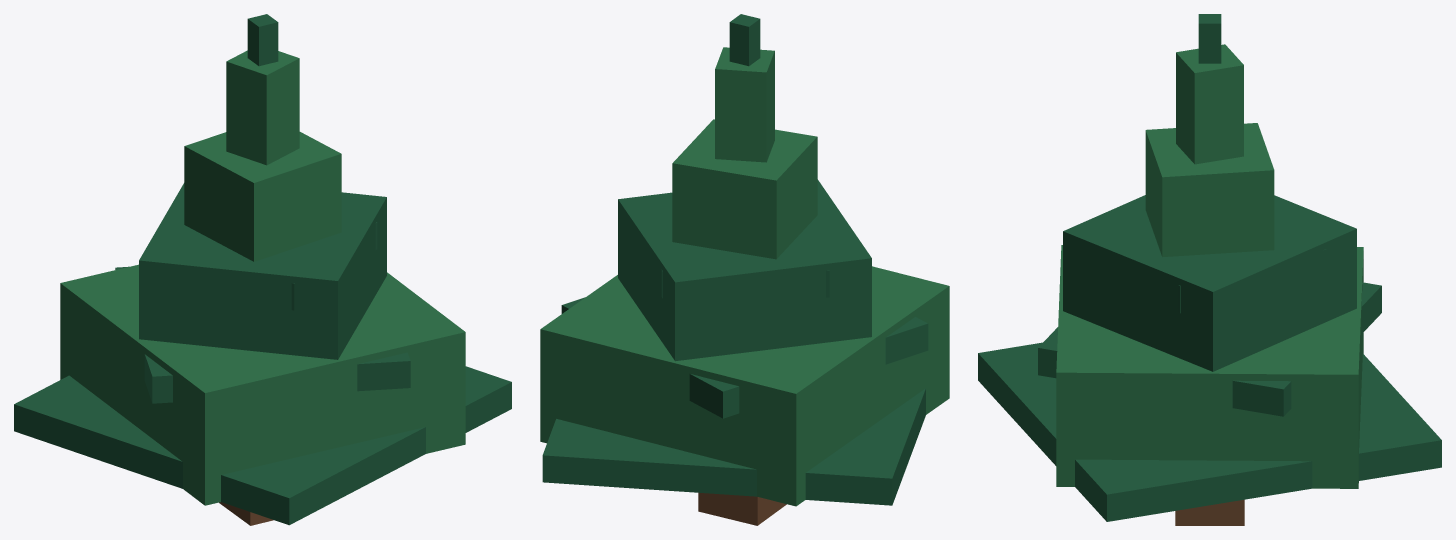
The model's file is A01_spruce_small.obj.
The picture shows the model from 3 angles, left to right: view 1: azimuth 30°, elevation 25°; view 2: azimuth 150°, elevation 25°; view 3: azimuth 270°, elevation 25°; orthographic projection.
Parts seen in each view (by area): view 1: A01_spruce_small; view 2: A01_spruce_small; view 3: A01_spruce_small.
Boxes of the visible parts, x1=… form: A01_spruce_small: x1=14, y1=14, x2=511, y2=525; A01_spruce_small: x1=540, y1=14, x2=949, y2=525; A01_spruce_small: x1=978, y1=14, x2=1441, y2=525.
Size of the model in its own units: 3.68 by 4.32 by 3.68.
